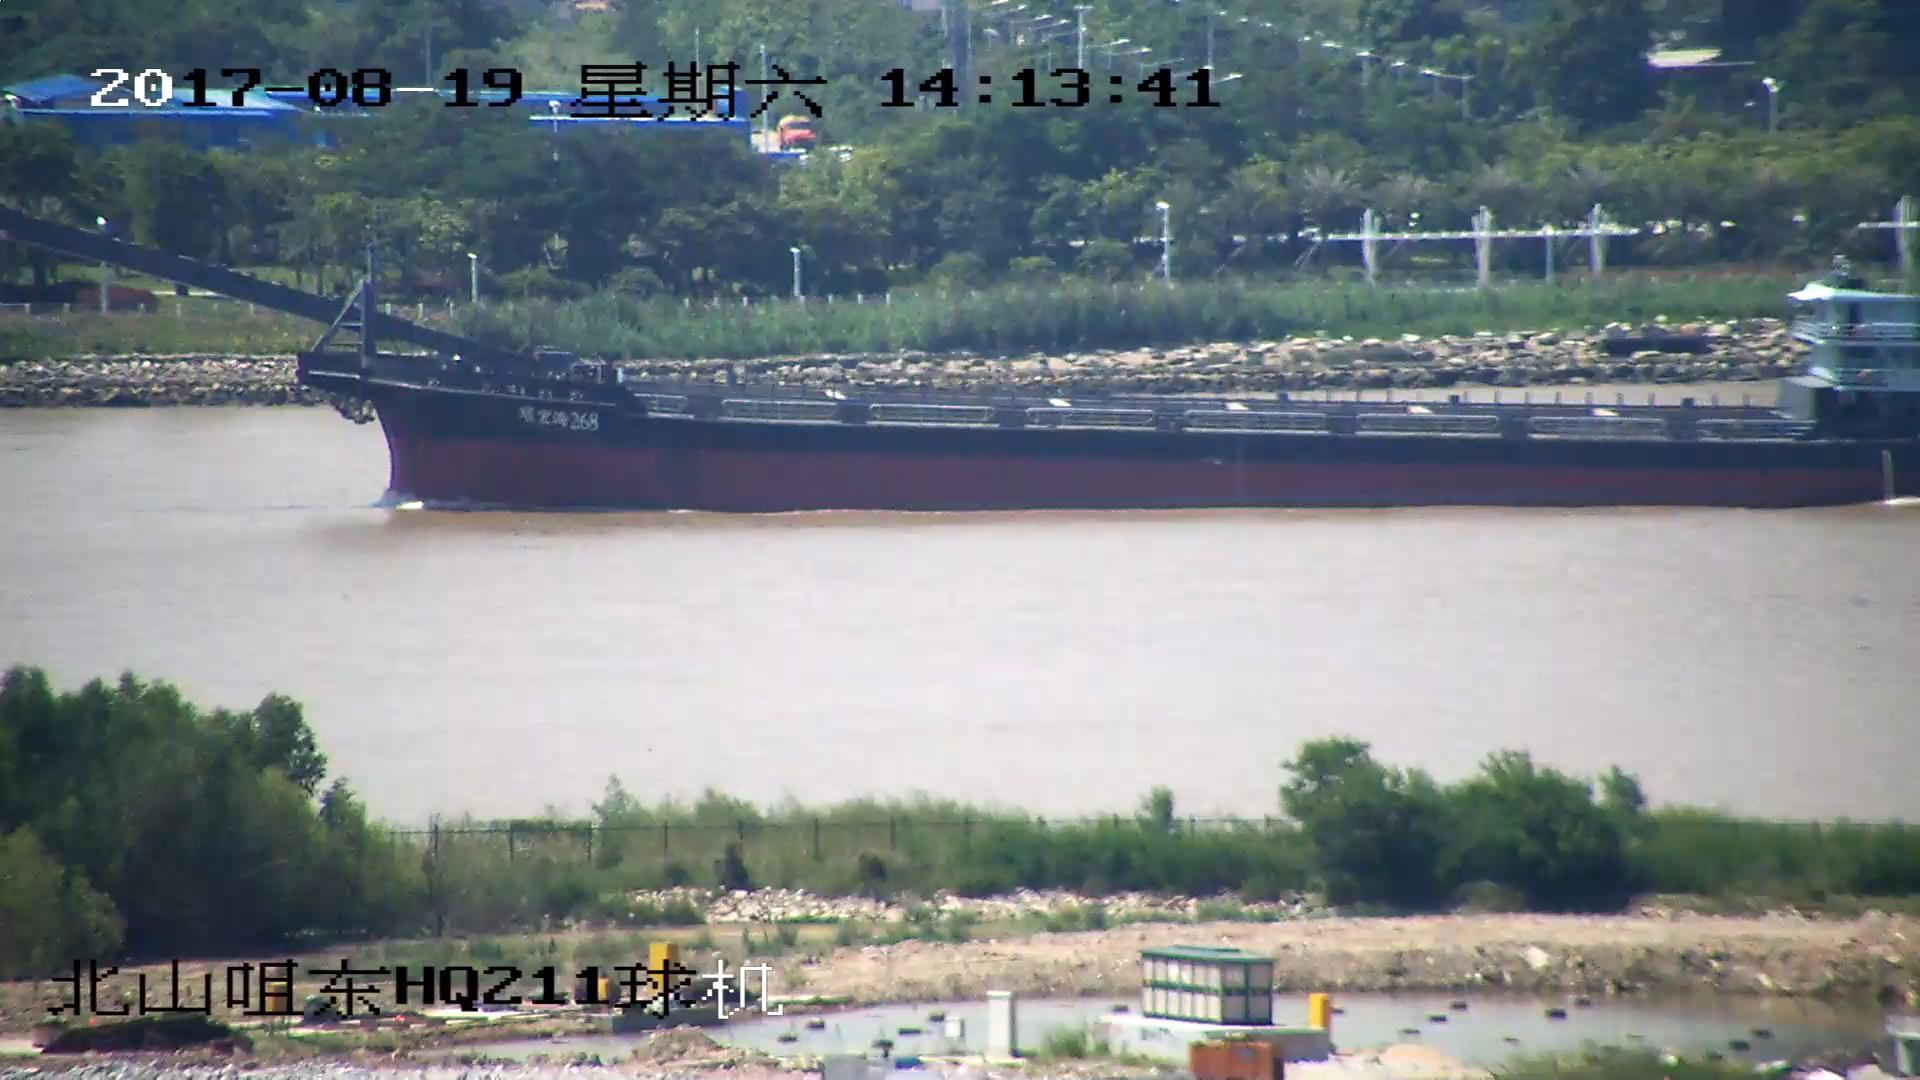Ship: (3, 214, 1920, 512)
